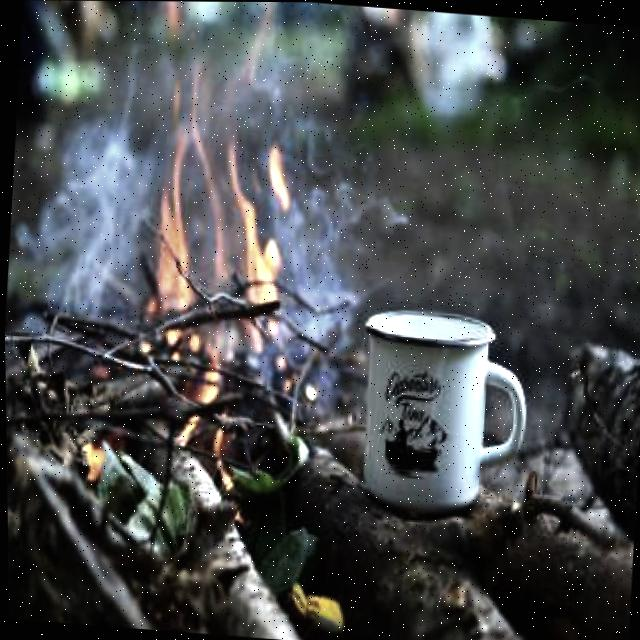Fire: (116, 1, 314, 493)
Smoke: (260, 110, 375, 399), (13, 119, 155, 322)
